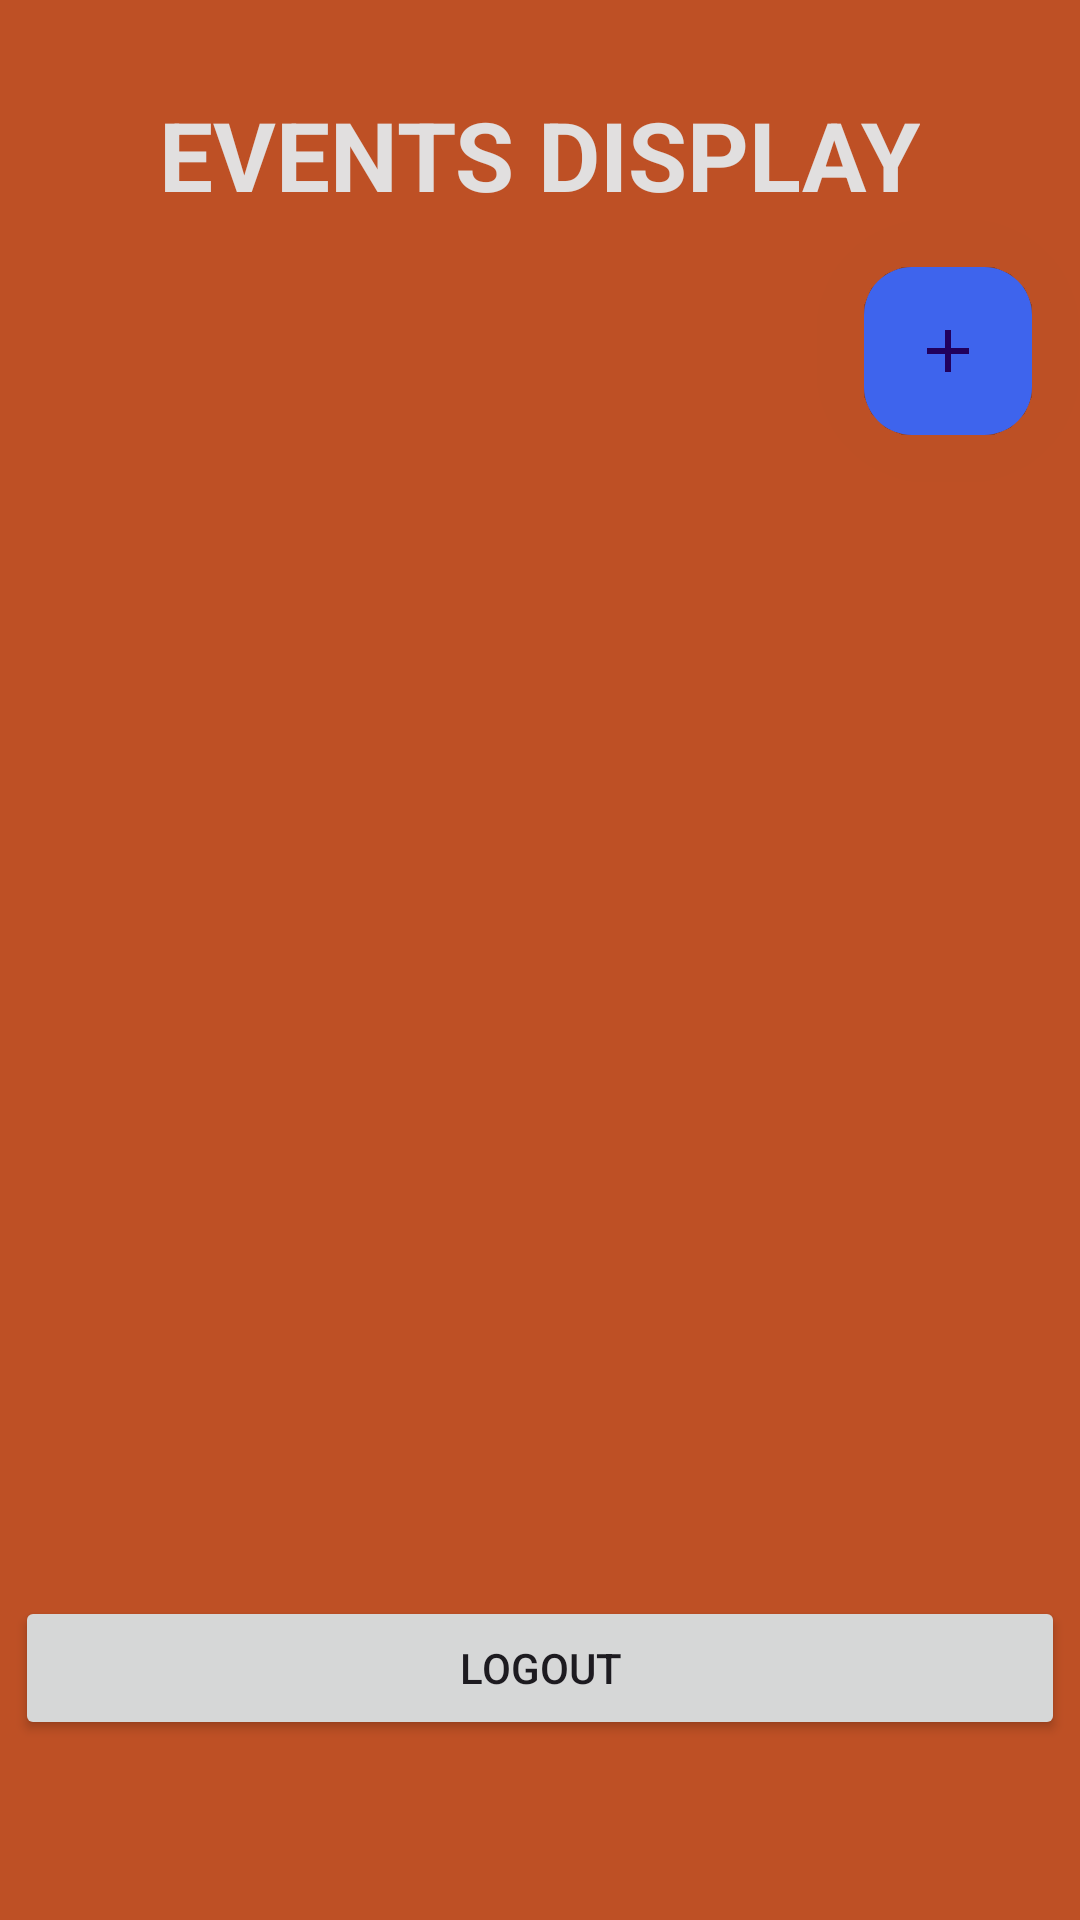

Screen size 1080w x 1920h. Icon name, then its box in pixels as (x1, y1, x2, y2):
add: (864, 267, 1032, 435)
